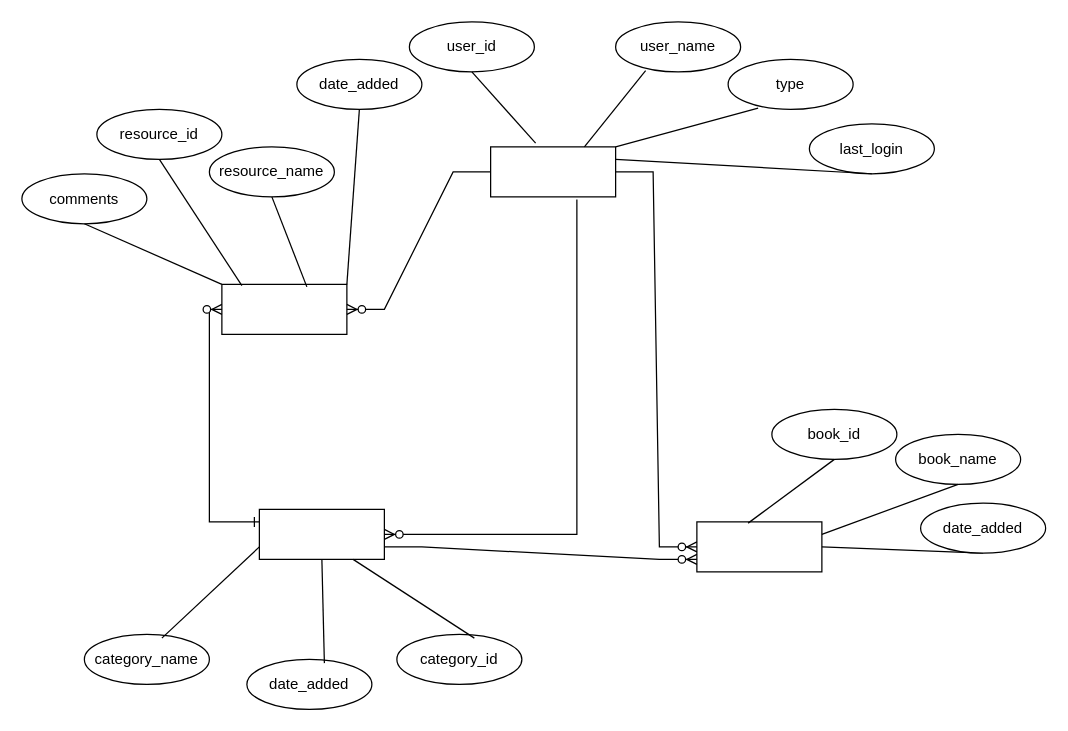
The diagram is 1068 pixels wide and 731 high, and some of its shapes have lost their labels. Each missing label, with the box of its shape:
Book: (696, 521, 822, 572)
Category: (258, 508, 384, 559)
Resource: (221, 283, 347, 334)
User: (489, 146, 616, 197)
